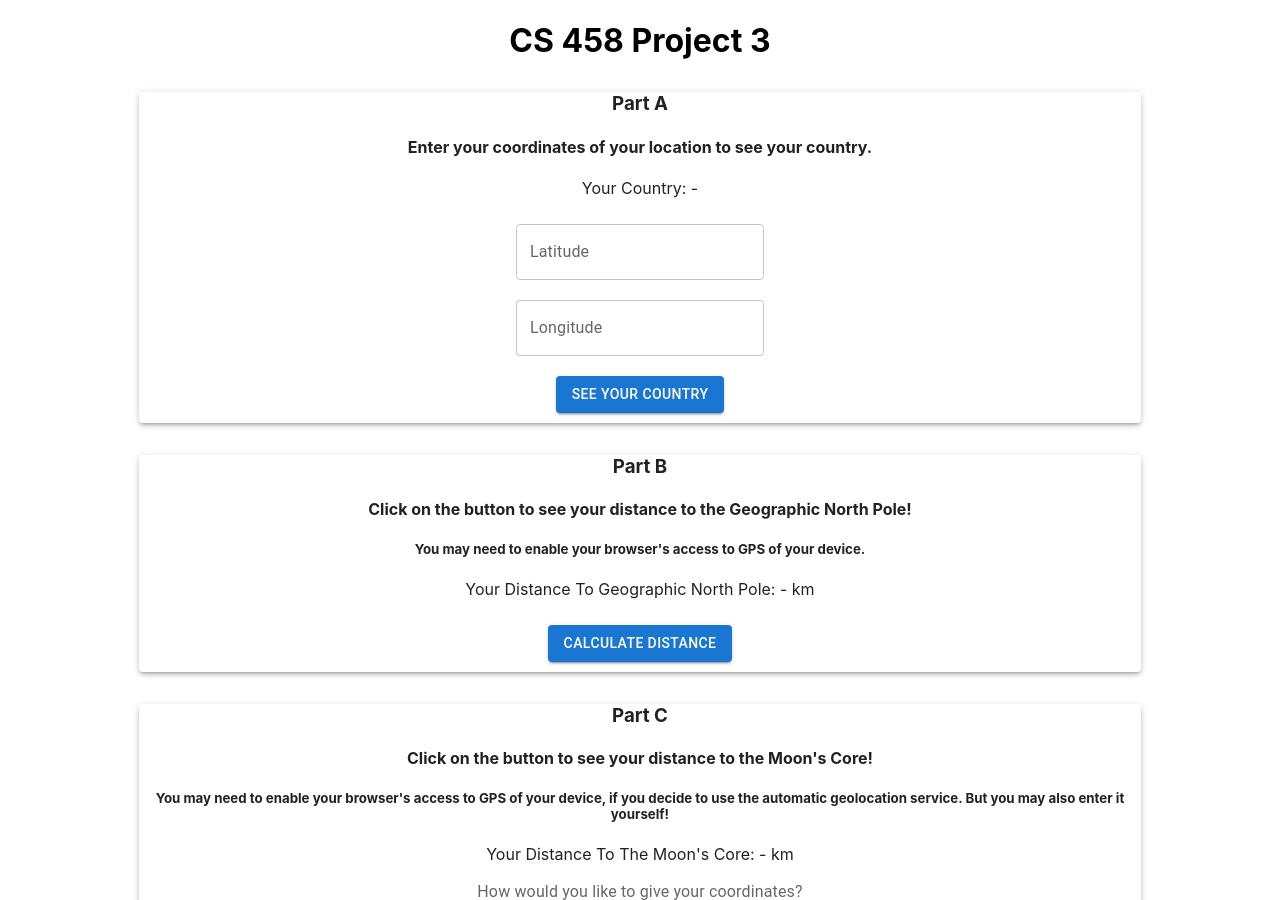
Test case: Checking geolocation api: › show error if geolocation is not supported
This screenshot has width=1280, height=900.
Click the button with test id "part-b-button" at [640, 643], box [548,625,732,662]
(page scrolled)
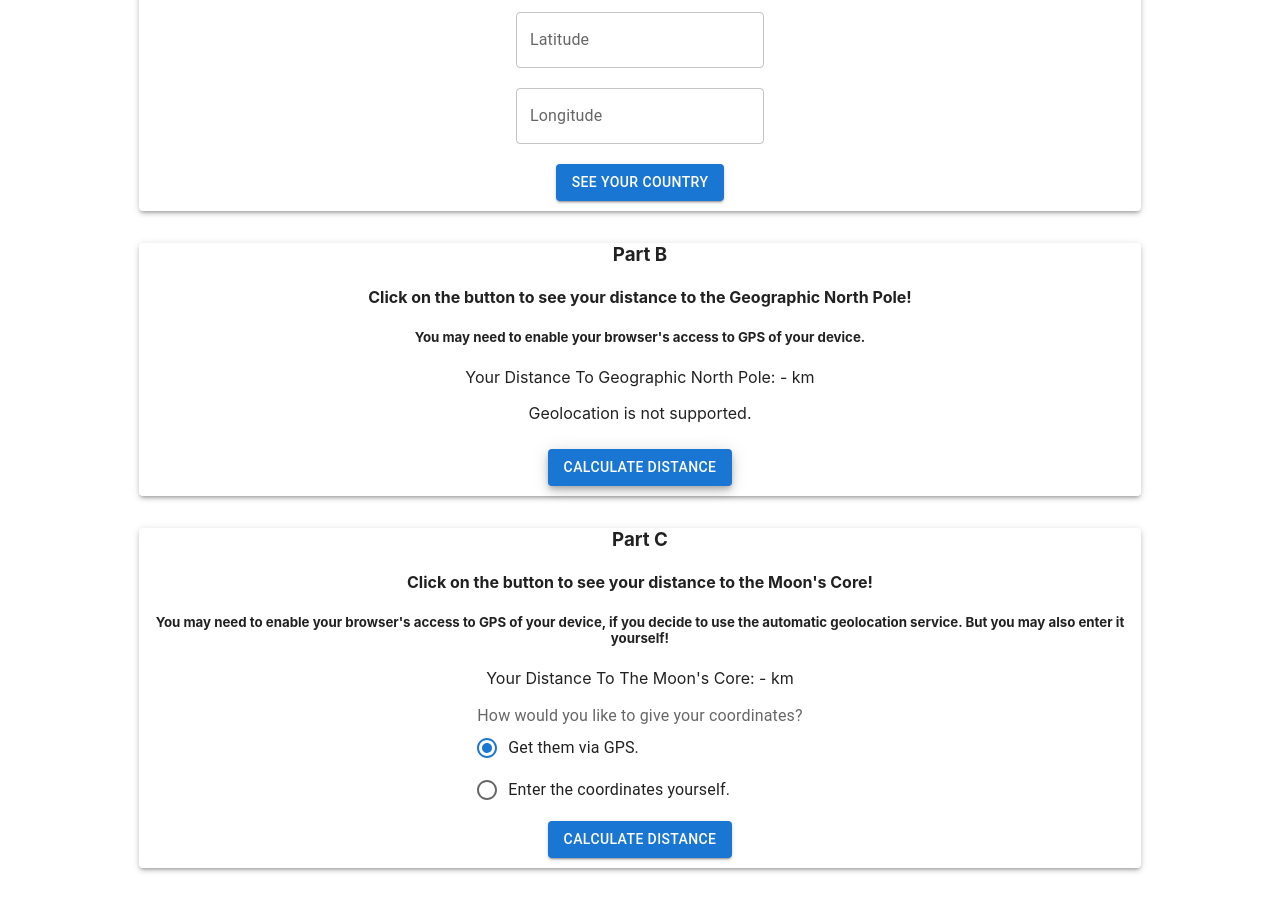
Check: the text with test id "part-b-error" reads "Geolocation is not supported.", box [528,403,752,423]
Click the button with test id "part-c-button" at [640, 840], box [548,821,732,858]
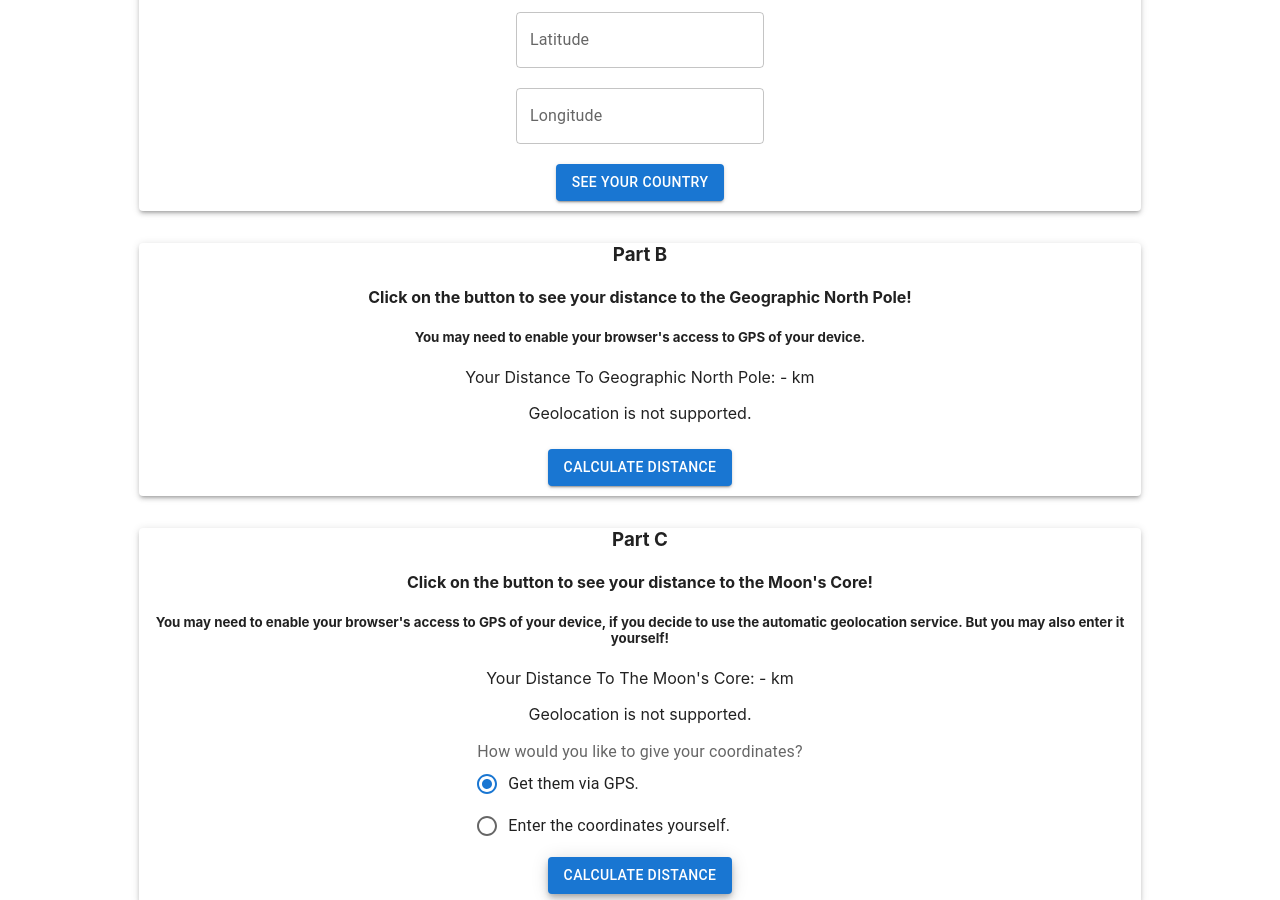
Check: the text with test id "part-c-error" reads "Geolocation is not supported.", box [528,704,752,724]
